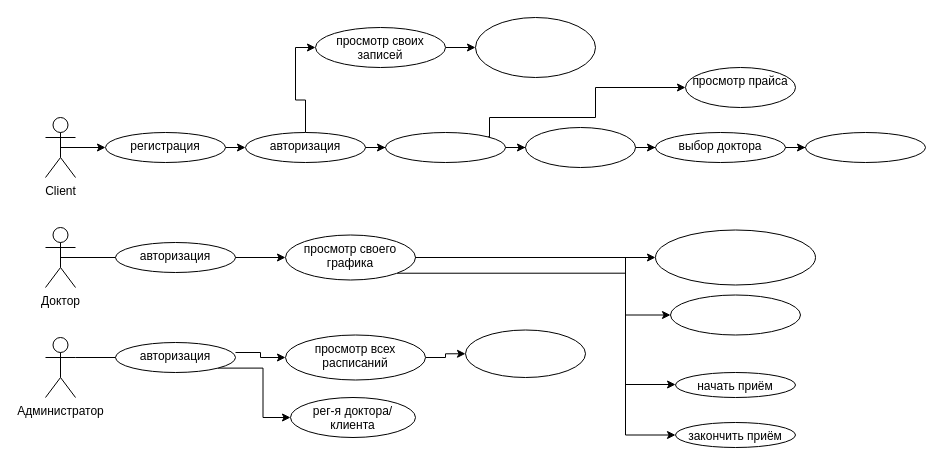
Some shapes in this 943 by 465 pixel diagram are drawn without their labels. Here are the shapes that lost their labels. From the top down, the centre of each, then its label:
At point (535, 47): "отмена записи к врачу".
At point (445, 147): "выбор клиники".
At point (580, 147): "выбор профиля врача".
At point (865, 147): "выбор времени".
At point (735, 257): "подать заявку на изменение графика".
At point (735, 314): "внести своё заключение".
At point (525, 353): "изменение графика".
